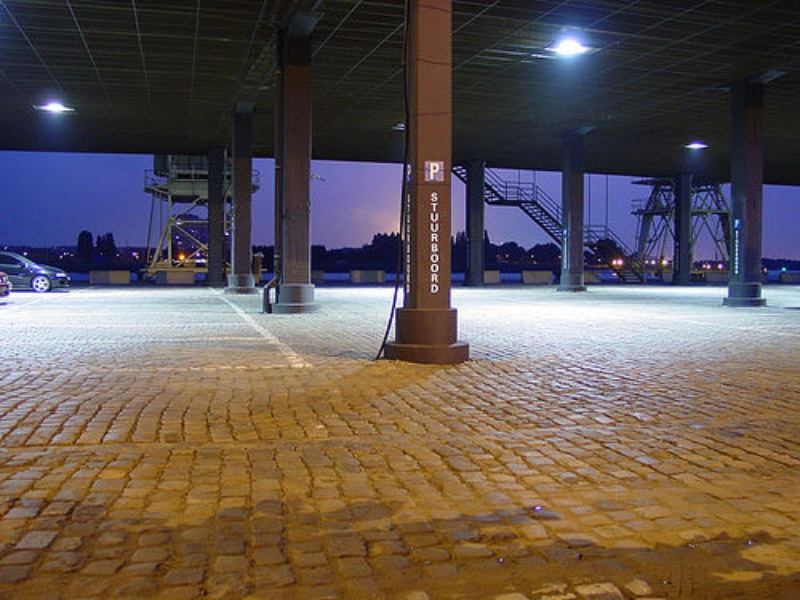car: (1, 253, 71, 292)
